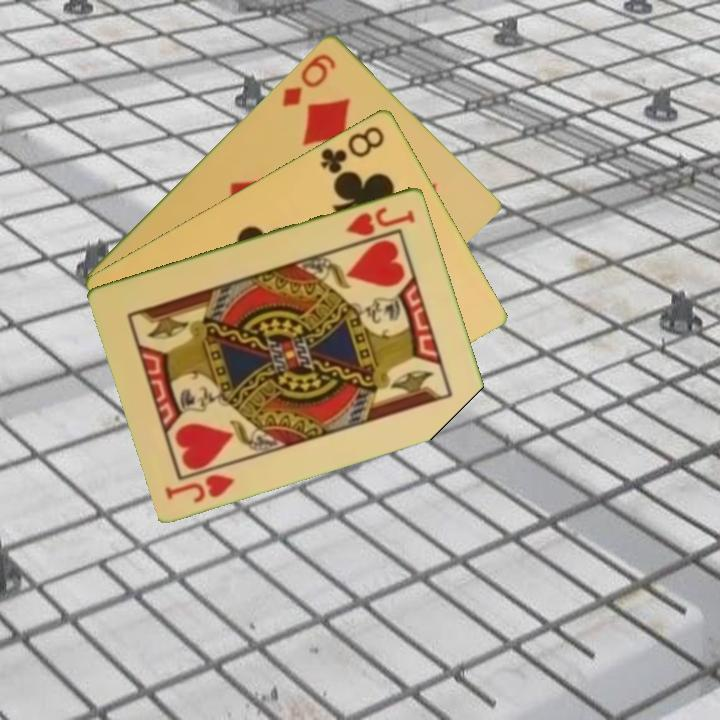6d: (278, 49, 339, 110)
8c: (316, 122, 388, 177)
Jh: (342, 202, 419, 239), (161, 470, 237, 505)
